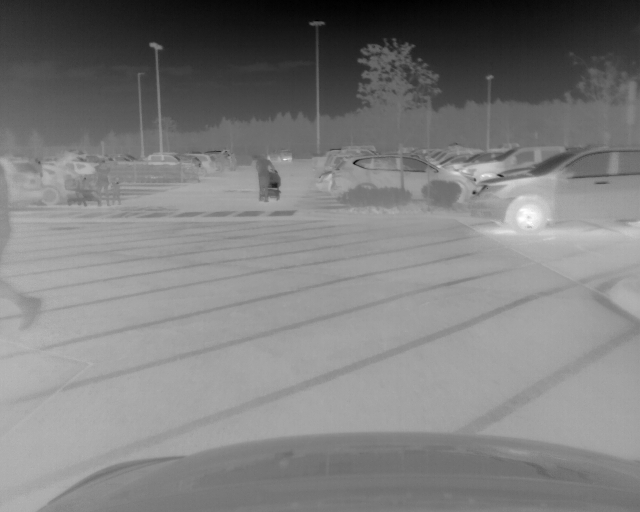car: (472, 143, 640, 233), (332, 153, 472, 204), (457, 144, 570, 197), (1, 157, 45, 208), (40, 165, 81, 208), (141, 151, 199, 172), (193, 151, 217, 176), (265, 148, 294, 165)
people: (1, 161, 43, 330), (257, 152, 278, 203), (95, 159, 110, 203), (110, 159, 122, 205)
